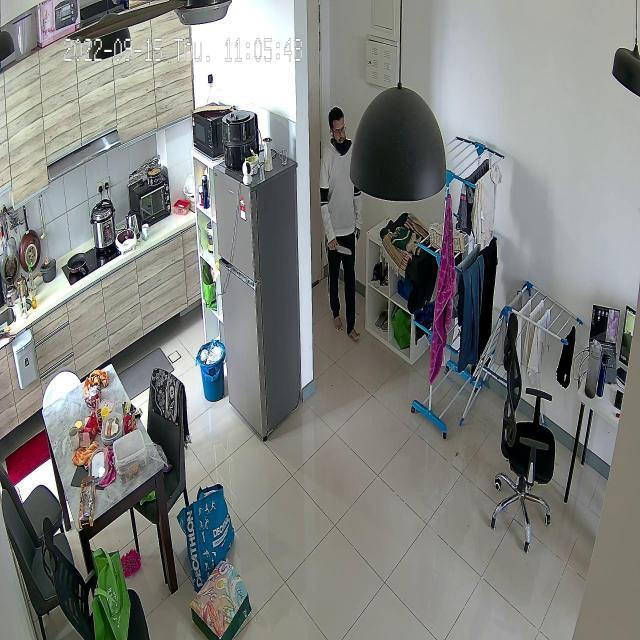Knife: (327, 235, 356, 265)
